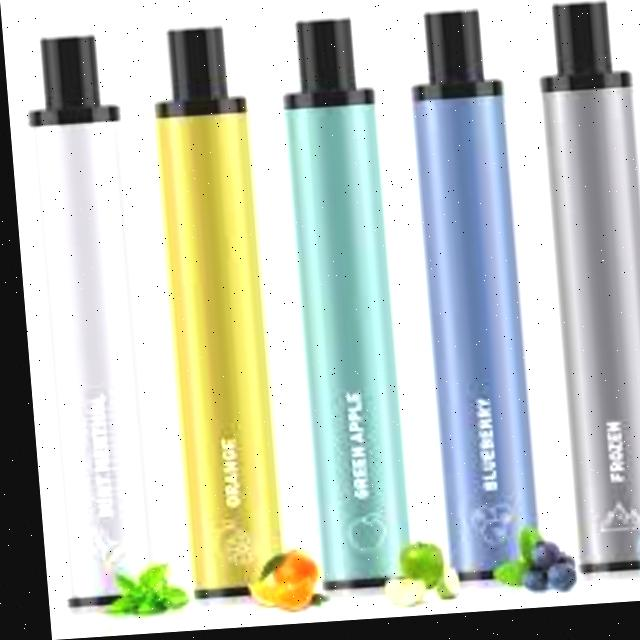vape: (403, 12, 535, 593), (276, 20, 404, 598), (22, 35, 150, 611), (148, 28, 276, 600), (532, 6, 640, 582)
